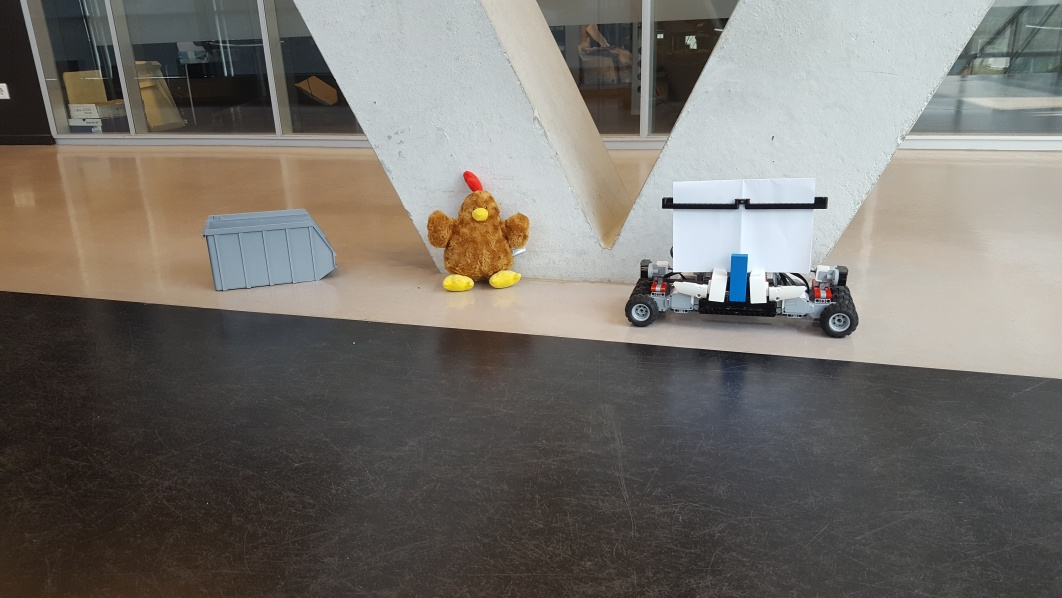car: (623, 174, 861, 344)
chicken: (425, 169, 532, 289)
tray: (195, 209, 338, 289)
